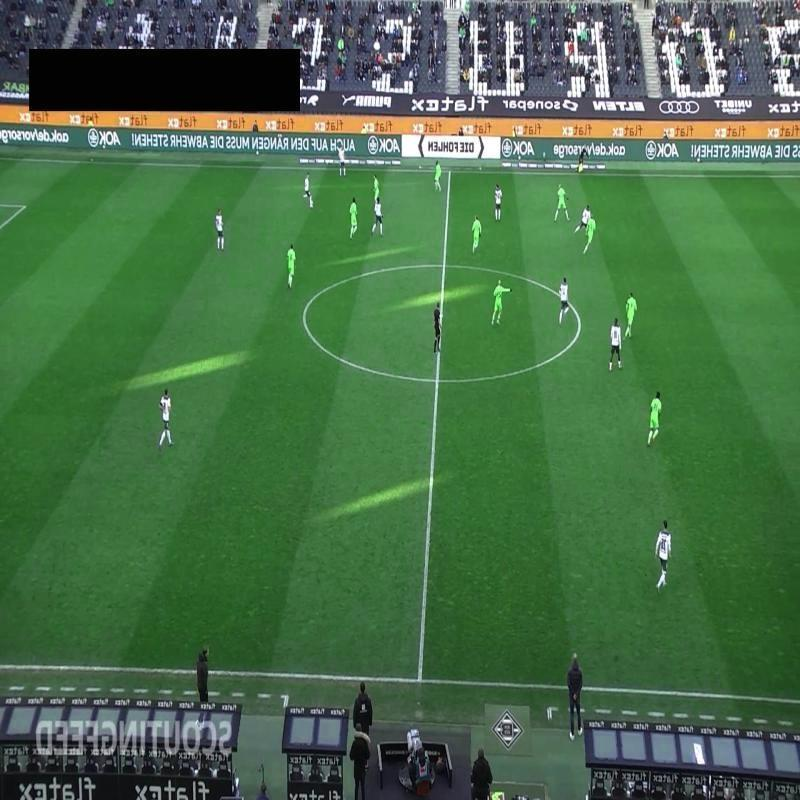13: (443, 165, 457, 179)
14: (436, 259, 450, 273)
15: (430, 374, 444, 388)
16: (411, 671, 428, 689)
9: (17, 200, 34, 212)
c: (296, 304, 312, 325), (572, 318, 586, 332)
